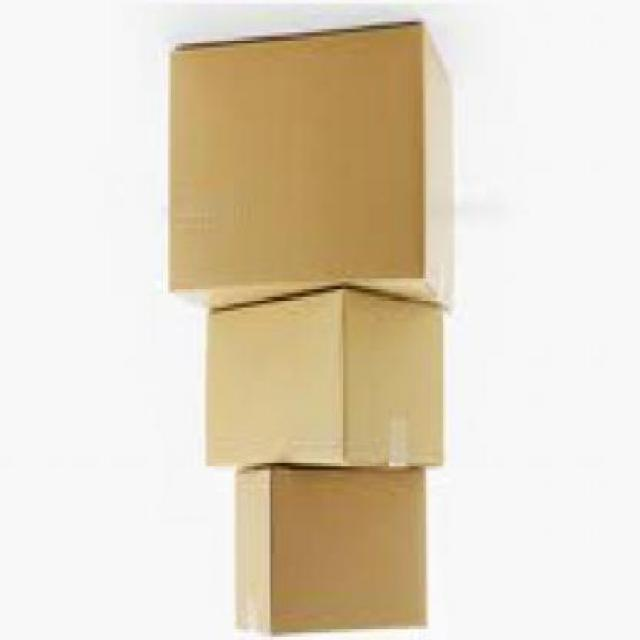box: (168, 22, 452, 311), (205, 289, 442, 477), (231, 470, 426, 639)
